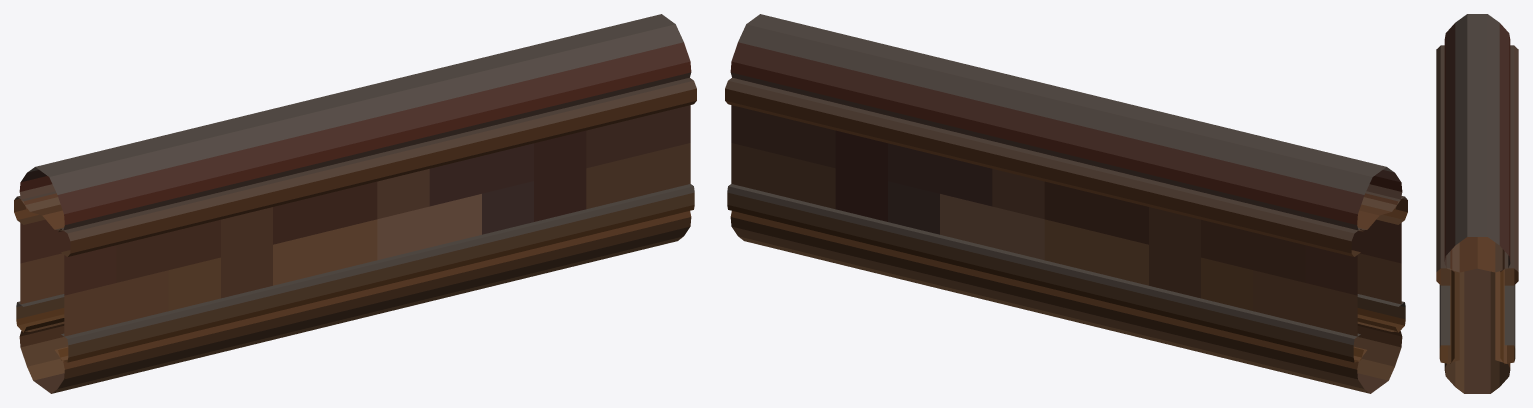
The model's file is Wall_HomeA-TrimTopA-4m.fbx.
3 views of the same model, side by side, from view 1: azimuth 30°, elevation 25°; view 2: azimuth 150°, elevation 25°; view 3: azimuth 270°, elevation 25° (orthographic). The views are drawn at different scales.
Parts seen in each view (by area): view 1: Wall_HomeA-TrimTopA-4m; view 2: Wall_HomeA-TrimTopA-4m; view 3: Wall_HomeA-TrimTopA-4m.
Part boxes in pixels (<box>): Wall_HomeA-TrimTopA-4m: <box>14,14,696,393</box>; Wall_HomeA-TrimTopA-4m: <box>725,14,1407,393</box>; Wall_HomeA-TrimTopA-4m: <box>1436,14,1518,393</box>.
Bounding box in the file's own units: 400 × 131 × 62.3.
